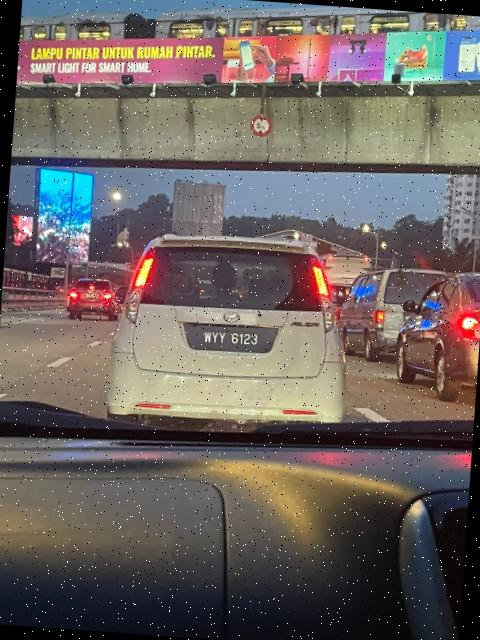License_Plate: (189, 325, 270, 352)
car: (114, 222, 361, 441)
